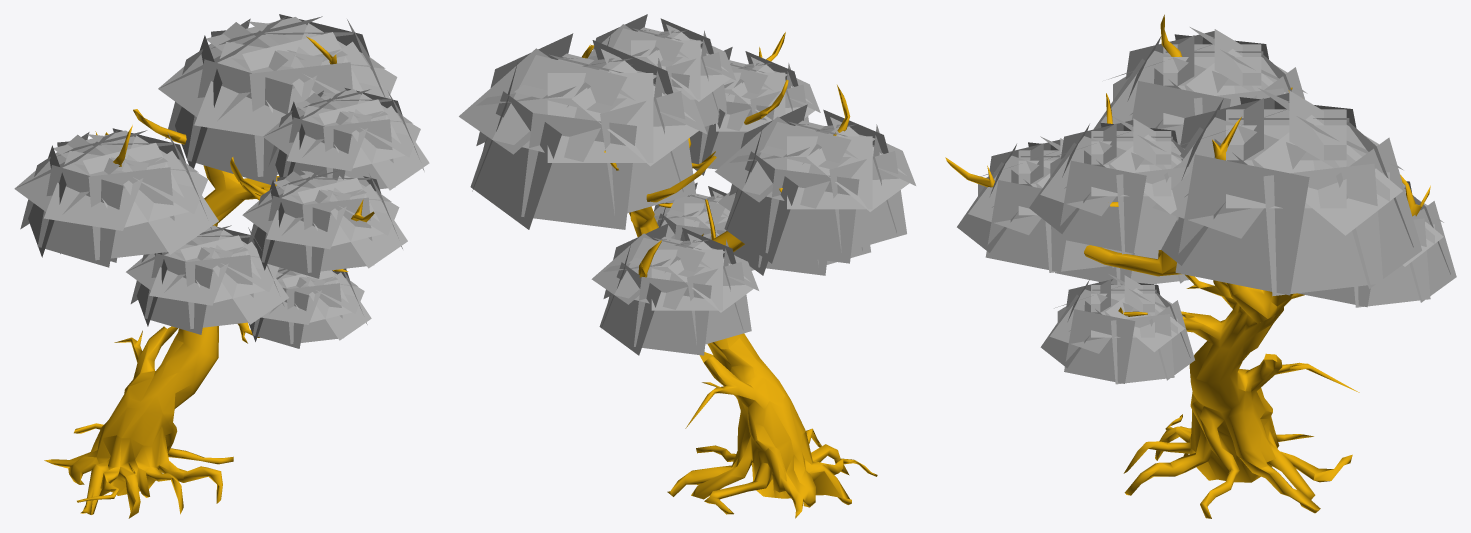
The model's file is forunity.fbx.
3 views of the same model, side by side, from view 1: azimuth 30°, elevation 25°; view 2: azimuth 150°, elevation 25°; view 3: azimuth 270°, elevation 25° (orthographic). The views are drawn at different scales.
Parts seen in each view (by area): view 1: polySurface53; view 2: polySurface53; view 3: polySurface53.
Part boxes in pixels (x1,y1,x2,y2): polySurface53: (14, 14, 429, 518); polySurface53: (459, 14, 915, 518); polySurface53: (945, 14, 1456, 518).
Size of the model in its own units: 423 by 427 by 419.
